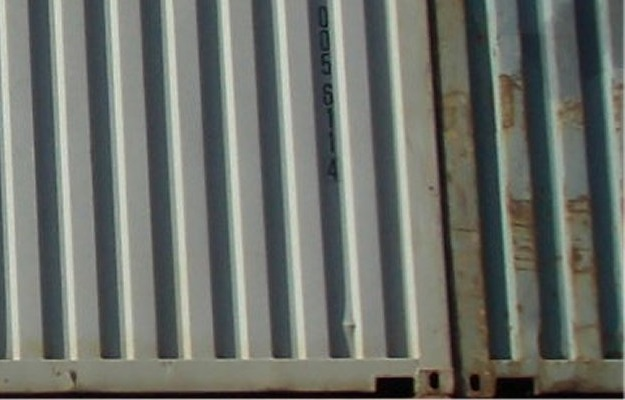container_no_door: (9, 3, 432, 390)
